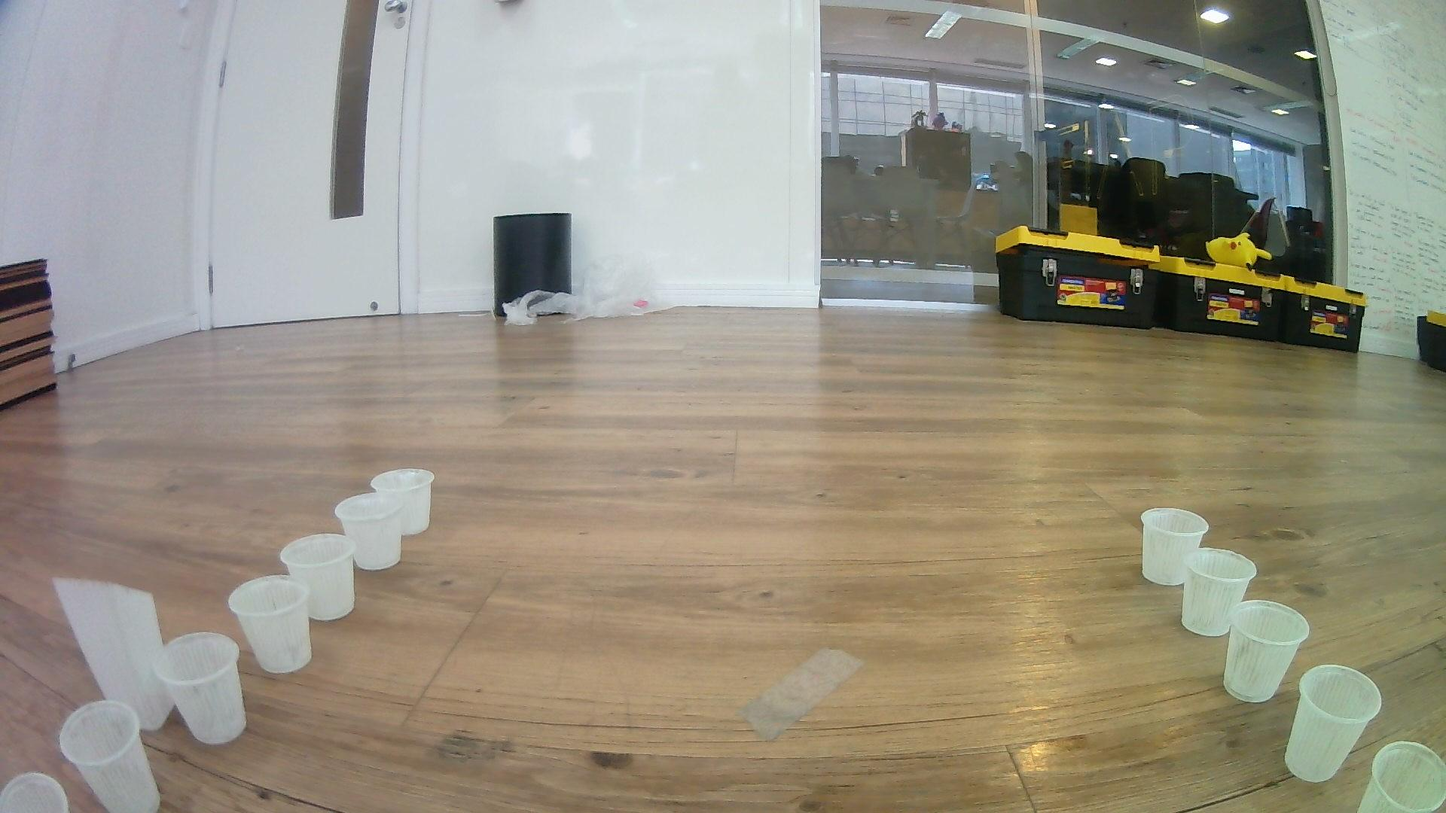erva_daninha: (51, 576, 177, 732)
planta: (1284, 664, 1383, 784), (57, 700, 161, 813), (153, 632, 247, 745), (1223, 599, 1310, 704), (227, 575, 313, 674), (1180, 547, 1258, 638), (279, 533, 356, 621), (1355, 741, 1446, 813), (1139, 507, 1210, 586), (334, 492, 404, 571), (369, 467, 435, 537), (0, 773, 71, 813)
